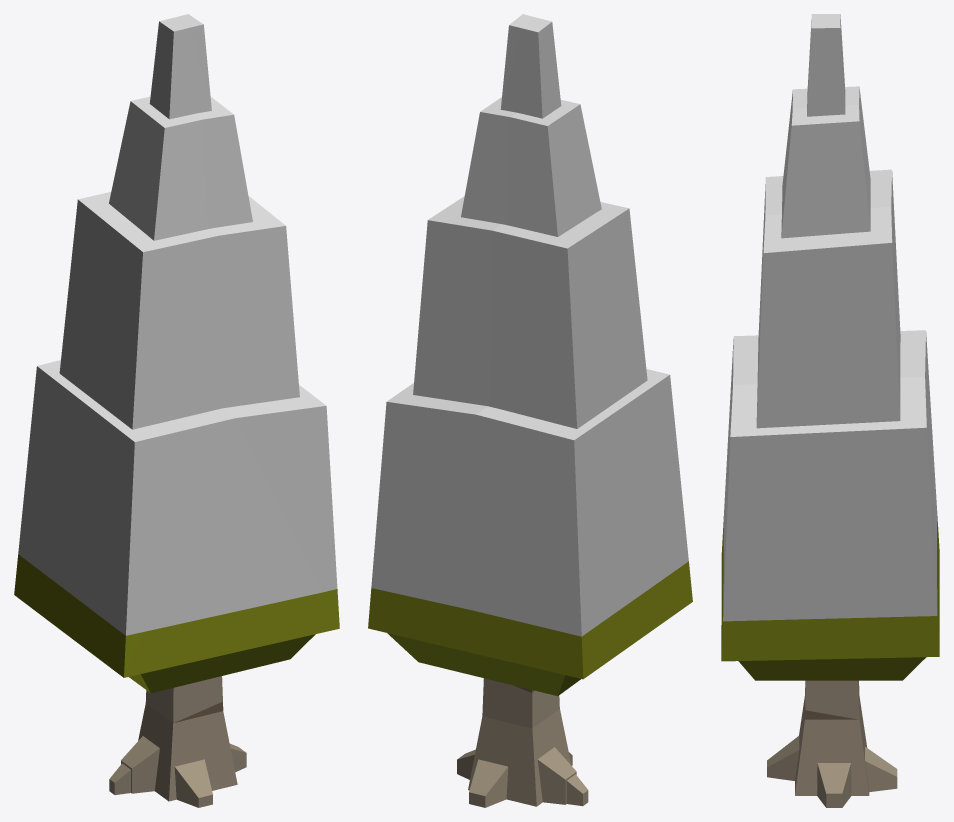
File: SF_Env_Tree_Snow_07.fbx
3 views of the same model, side by side, from view 1: azimuth 30°, elevation 25°; view 2: azimuth 150°, elevation 25°; view 3: azimuth 270°, elevation 25° (orthographic).
Parts seen in each view (by area): view 1: SF_Env_Tree_Snow_07; view 2: SF_Env_Tree_Snow_07; view 3: SF_Env_Tree_Snow_07.
Boxes of the visible parts, x1,y1,x2,y2 form: SF_Env_Tree_Snow_07: [14, 14, 339, 807]; SF_Env_Tree_Snow_07: [368, 14, 692, 807]; SF_Env_Tree_Snow_07: [721, 14, 939, 807].
Size of the model in its own units: 1.93 by 6.49 by 1.7.
